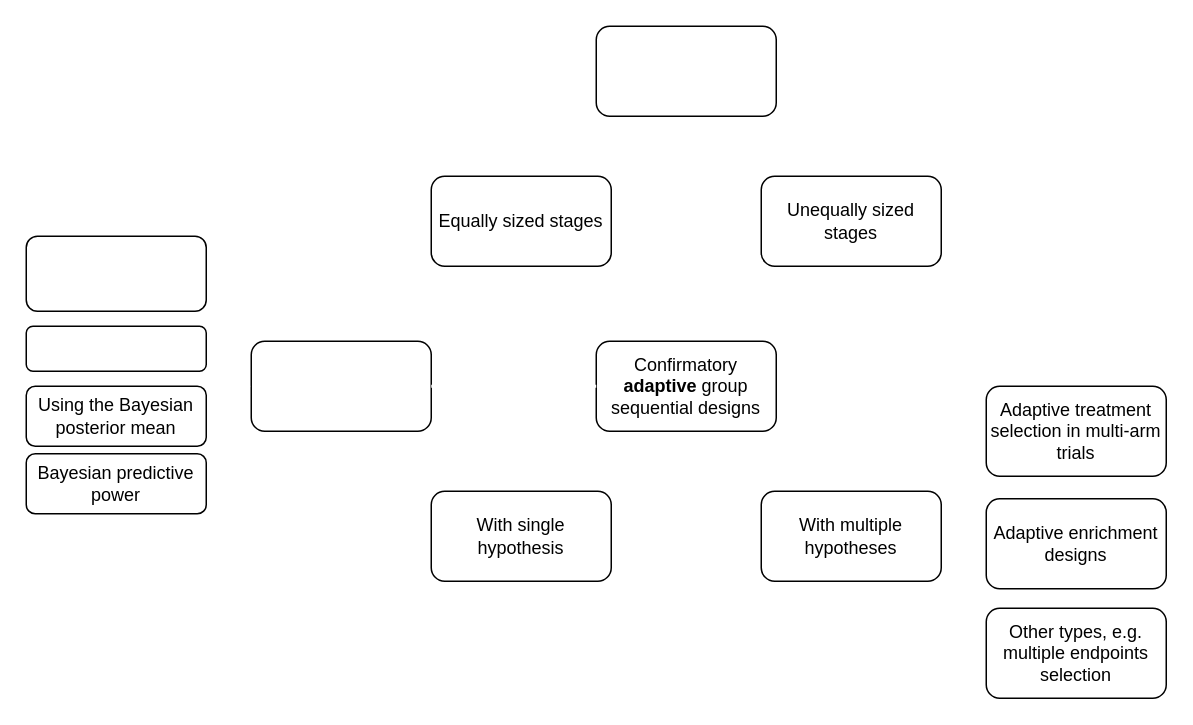
This 1193x725 diagram has some shape labels left out. The centre of each missing label's shape, as x and y in pixels:
"Decision tools: conditional power" belongs at [340,385].
"Group Sequential Design" belongs at [685,70].
"Using minimal clinically relevant effect size" belongs at [115,273].
"Using the interim estimate" belongs at [115,348].
